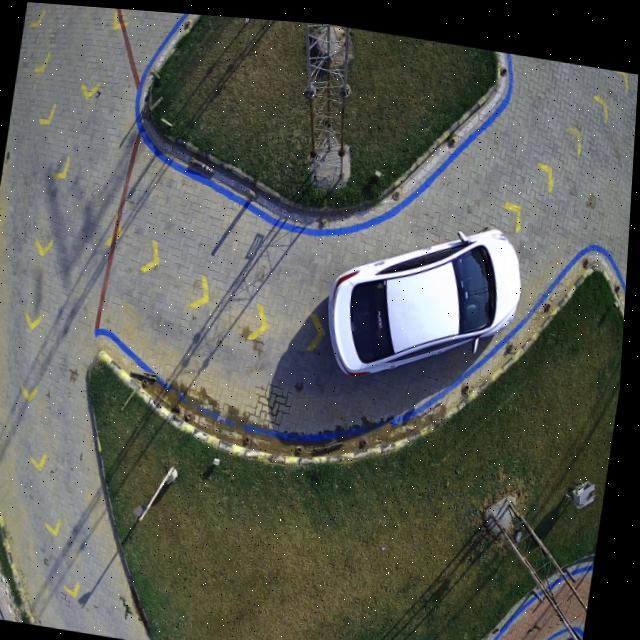car: (331, 222, 524, 370)
